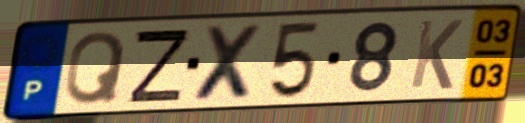5: (264, 19, 326, 101)
8: (345, 18, 402, 96)
K: (406, 17, 466, 92)
Q: (62, 29, 130, 108)
X: (190, 22, 268, 104)
Z: (126, 27, 193, 106)
